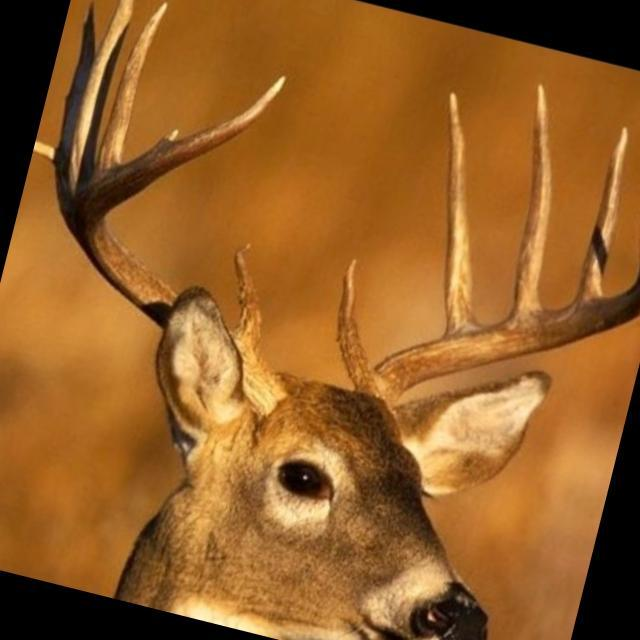L-F: (357, 279, 640, 405)
L-G1: (335, 259, 371, 388)
L-G2: (442, 91, 477, 335)
L-G3: (508, 84, 552, 318)
L-G4: (573, 126, 628, 302)
R-G1: (233, 243, 262, 349)
R-G3: (68, 0, 135, 188)
R-G4: (98, 2, 166, 173)
